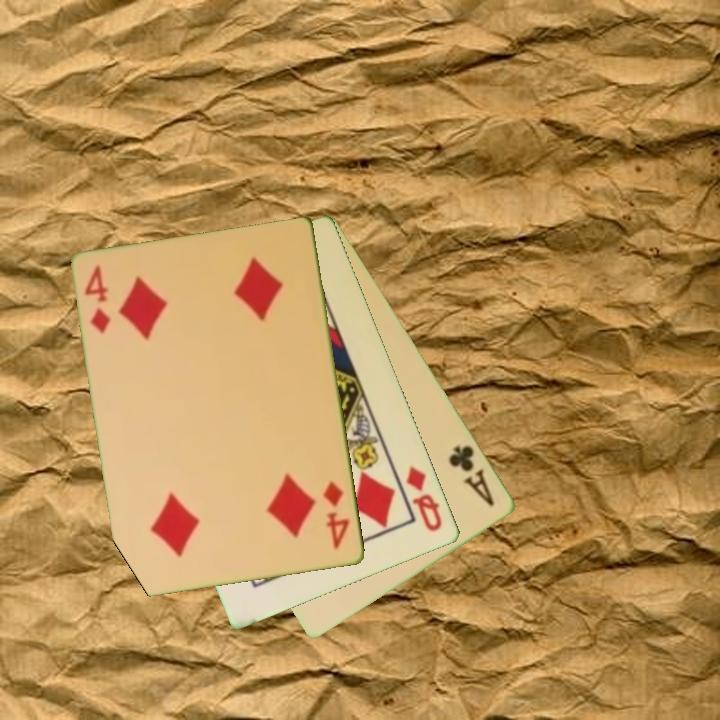4d: (81, 262, 114, 337), (320, 478, 353, 552)
Ac: (445, 442, 498, 509)
Qd: (403, 462, 446, 535)
